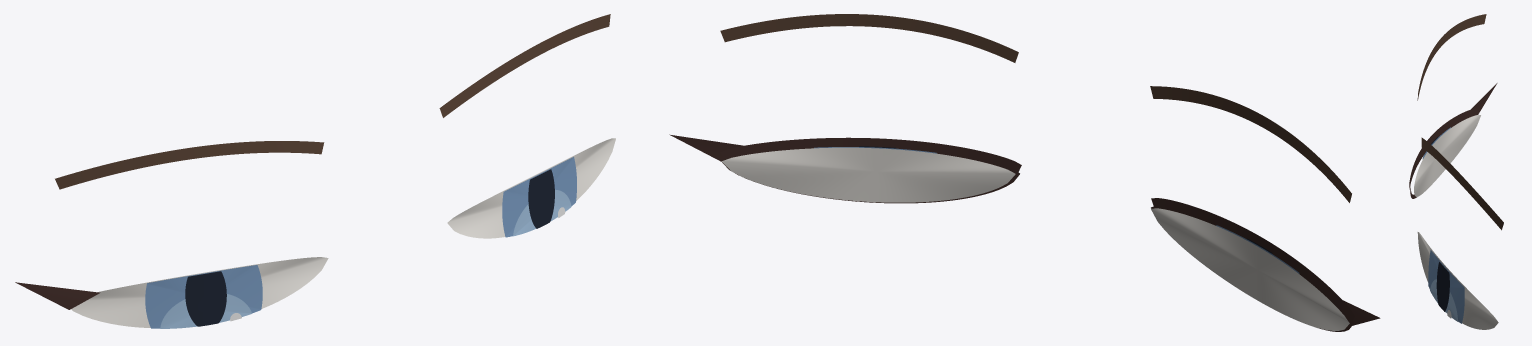
3 views of the same model, side by side, from view 1: azimuth 30°, elevation 25°; view 2: azimuth 150°, elevation 25°; view 3: azimuth 270°, elevation 25° (orthographic). The views are drawn at different scales.
Parts seen in each view (by area): view 1: Eye_White_-1, Eyebrow_-1, Eye_White_1, Eye_Iris_-1, Eyebrow_1, Eye_Pupil_-1, Eye_Iris_1, Eye_Pupil_1, Eye_Iris_Light_-1, Eye_LashWing_-1, Eye_Iris_Light_1; view 2: Eye_White_1, Eye_White_-1, Eyebrow_1, Eye_UpperLid_1, Eyebrow_-1, Eye_UpperLid_-1, Eye_LashWing_1; view 3: Eye_White_-1, Eye_White_1, Eyebrow_1, Eye_Iris_1, Eyebrow_-1, Eye_UpperLid_-1, Eye_Pupil_1, Eye_Iris_Light_1, Eye_LashWing_-1.
Part boxes in pixels (box(x1,y1,x2,y2)): Eye_White_-1: box(71, 257, 328, 327); Eyebrow_-1: box(55, 141, 324, 189); Eye_White_1: box(447, 138, 615, 238); Eye_Iris_-1: box(145, 265, 262, 328); Eyebrow_1: box(439, 14, 610, 117); Eye_Pupil_-1: box(185, 271, 226, 326); Eye_Iris_1: box(502, 157, 576, 237); Eye_Pupil_1: box(528, 169, 554, 228); Eye_Iris_Light_-1: box(160, 294, 251, 328); Eye_LashWing_-1: box(15, 282, 100, 309); Eye_Iris_Light_1: box(513, 189, 571, 236); Eye_White_1: box(721, 147, 1015, 202); Eye_White_-1: box(1151, 208, 1349, 330); Eyebrow_1: box(720, 14, 1018, 62); Eye_UpperLid_1: box(720, 137, 1021, 172); Eyebrow_-1: box(1150, 86, 1351, 202); Eye_UpperLid_-1: box(1151, 198, 1354, 321); Eye_LashWing_1: box(669, 134, 743, 161); Eye_White_-1: box(1414, 115, 1480, 196); Eye_White_1: box(1417, 232, 1498, 329); Eyebrow_1: box(1421, 137, 1503, 230); Eye_Iris_1: box(1428, 250, 1464, 323); Eyebrow_-1: box(1417, 14, 1486, 100); Eye_UpperLid_-1: box(1409, 108, 1478, 189); Eye_Pupil_1: box(1436, 262, 1449, 311); Eye_Iris_Light_1: box(1430, 279, 1457, 321); Eye_LashWing_-1: box(1471, 83, 1497, 114).
Size of the model in its own units: 0.4435 by 0.1262 by 0.0807.
